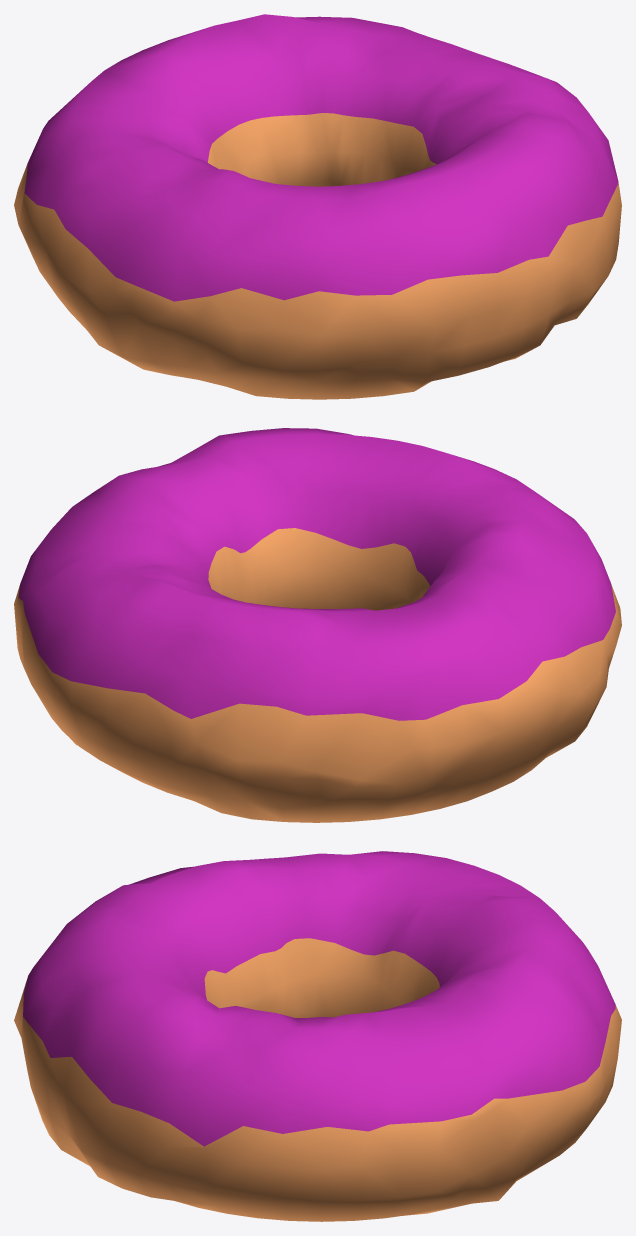
The model's file is donut.obj.
3 renders of one model, top to bottom at view 1: azimuth 30°, elevation 25°; view 2: azimuth 150°, elevation 25°; view 3: azimuth 270°, elevation 25°, orthographic.
Parts seen in each view (by area): view 1: Torus.001; view 2: Torus.001; view 3: Torus.001.
Part boxes in pixels (x1,y1,x2,y2): Torus.001: [14, 14, 621, 399]; Torus.001: [14, 428, 621, 822]; Torus.001: [14, 851, 621, 1221].
Bounding box in the file's own units: 3.06 × 1.19 × 3.01.
